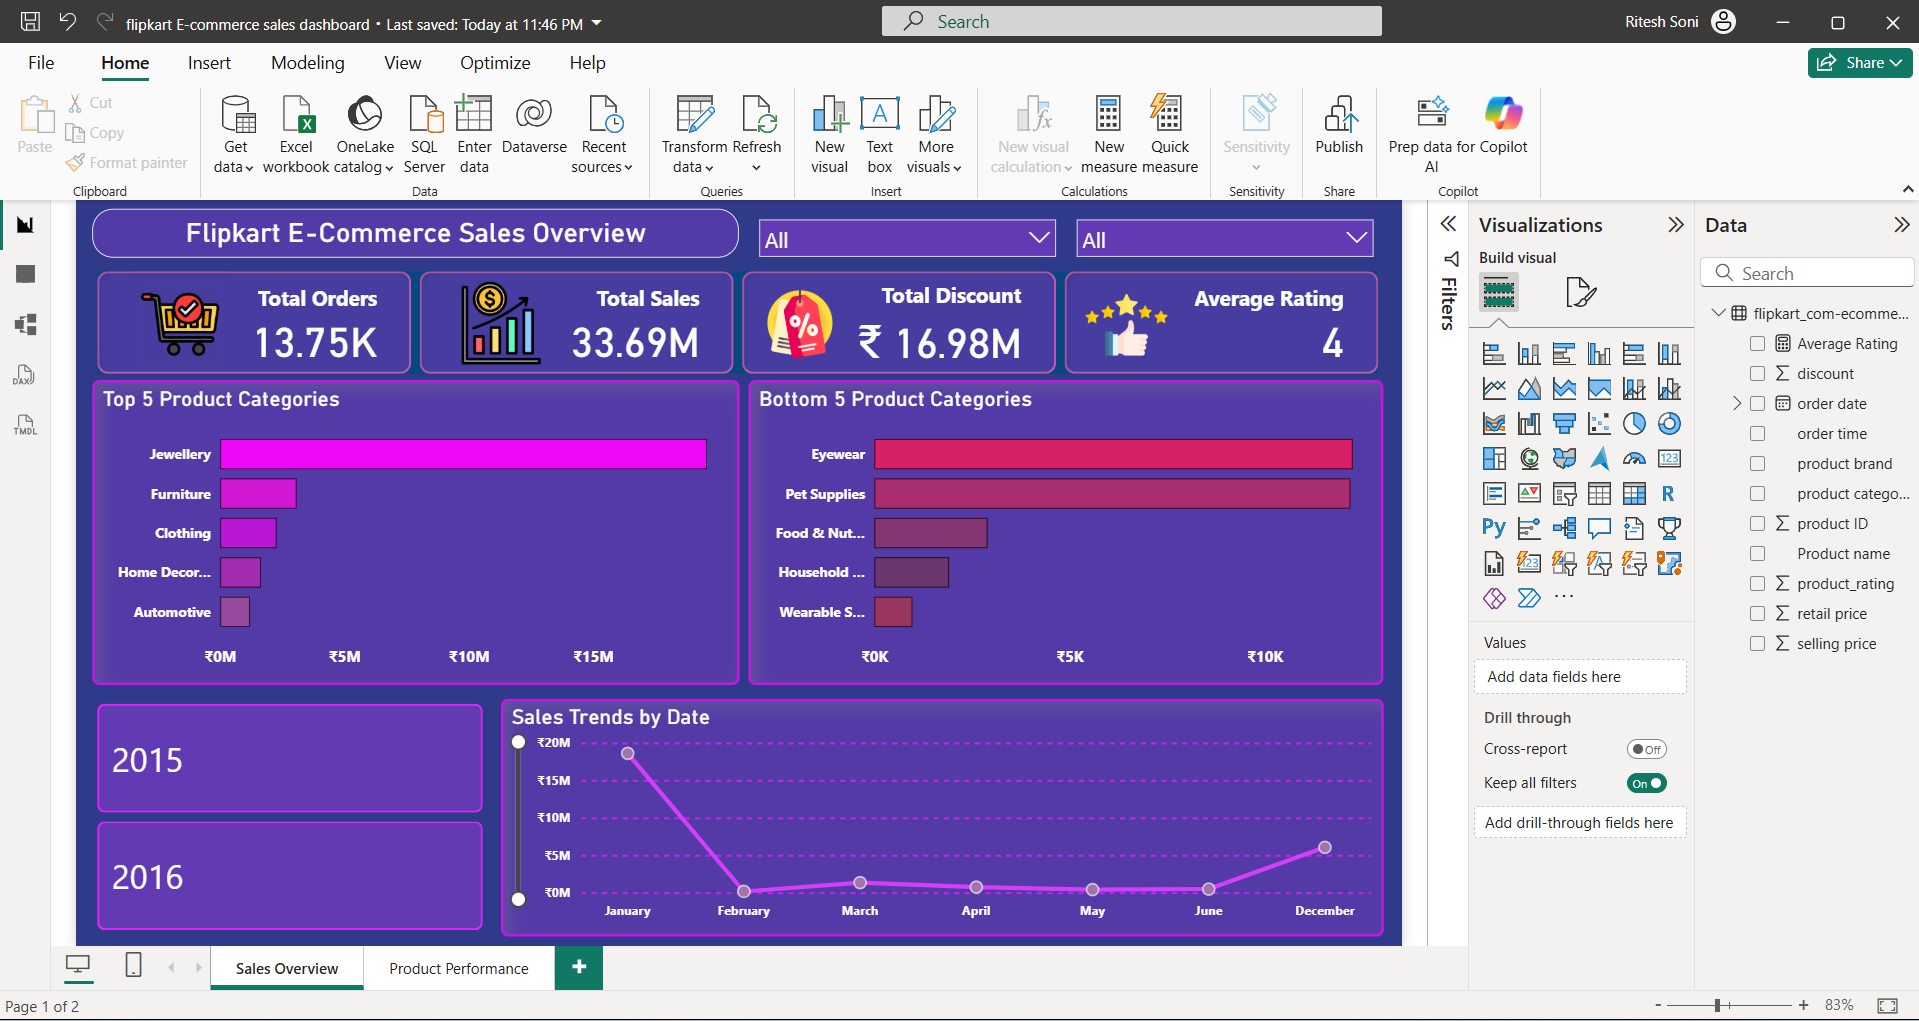

Layout of this report page (visuals, bound fields, positions):
{"tool":"powerbi","page":{"name":"Sales Overview","canvas":[1280,720],"ordinal":0},"visuals":[{"type":"textbox","box":[0,0,1280,55.5],"z":0},{"type":"cardVisual","fields":{"Data":["CountNonNull(flipkart_com-ecommerce_sample.product ID)","Sum(flipkart_com-ecommerce_sample.selling price)","Sum(flipkart_com-ecommerce_sample.discount)","flipkart_com-ecommerce_sample.Average Rating"]},"box":[15.7,63.9,1246.3,109.8],"z":1000},{"type":"barChart","title":"Top 5 Product Categories","fields":{"Category":["flipkart_com-ecommerce_sample.product categories"],"Y":["Sum(flipkart_com-ecommerce_sample.selling price)"]},"box":[15.7,173.7,624.9,294.4],"z":2000},{"type":"lineChart","title":"Sales Trends by Date","fields":{"Y":["Sum(flipkart_com-ecommerce_sample.selling price)"],"Category":["flipkart_com-ecommerce_sample.order date.Variation.Date Hierarchy.Year","flipkart_com-ecommerce_sample.order date.Variation.Date Hierarchy.Month"]},"box":[410.2,481.4,851.7,229.2],"z":3000},{"type":"barChart","title":"Bottom 5 Product Categories","fields":{"Category":["flipkart_com-ecommerce_sample.product categories"],"Y":["Sum(flipkart_com-ecommerce_sample.selling price)"]},"box":[649.1,173.7,612.9,294.4],"z":4000},{"type":"advancedSlicerVisual","fields":{"Values":["flipkart_com-ecommerce_sample.order date.Variation.Date Hierarchy.Year"]},"box":[35.7,507.7,338.9,174.3],"z":5000},{"type":"slicer","fields":{"Values":["flipkart_com-ecommerce_sample.order date.Variation.Date Hierarchy.Month"]},"box":[649.1,0,306.4,63.9],"z":6000},{"type":"slicer","fields":{"Values":["flipkart_com-ecommerce_sample.product_rating"]},"box":[955.5,0,306.4,63.9],"z":7000}]}

Visuals, with their boxes on the page's 1280x720 design canvas (x1, y1, x2, y2). These are canvas units, not pixel positions in the 1919x1021 screenshot, which may show the page scaled, cropped or inside an application window:
textbox: x1=0 y1=0 x2=1280 y2=56
cardVisual - CountNonNull(flipkart_com-ecommerce_sample.product ID) x Sum(flipkart_com-ecommerce_sample.selling price): x1=16 y1=64 x2=1262 y2=174
"Top 5 Product Categories" barChart: x1=16 y1=174 x2=641 y2=468
"Sales Trends by Date" lineChart: x1=410 y1=481 x2=1262 y2=711
"Bottom 5 Product Categories" barChart: x1=649 y1=174 x2=1262 y2=468
advancedSlicerVisual - flipkart_com-ecommerce_sample.order date.Variation.Date Hierarchy.Year: x1=36 y1=508 x2=375 y2=682
slicer - flipkart_com-ecommerce_sample.order date.Variation.Date Hierarchy.Month: x1=649 y1=0 x2=956 y2=64
slicer - flipkart_com-ecommerce_sample.product_rating: x1=956 y1=0 x2=1262 y2=64
